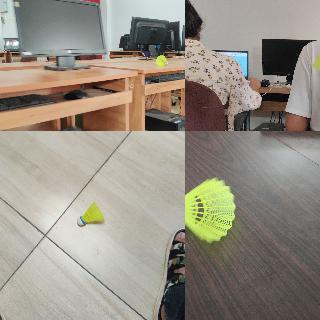shuttlecock: (185, 177, 235, 245), (76, 201, 104, 225), (312, 41, 319, 74), (155, 54, 167, 66)
